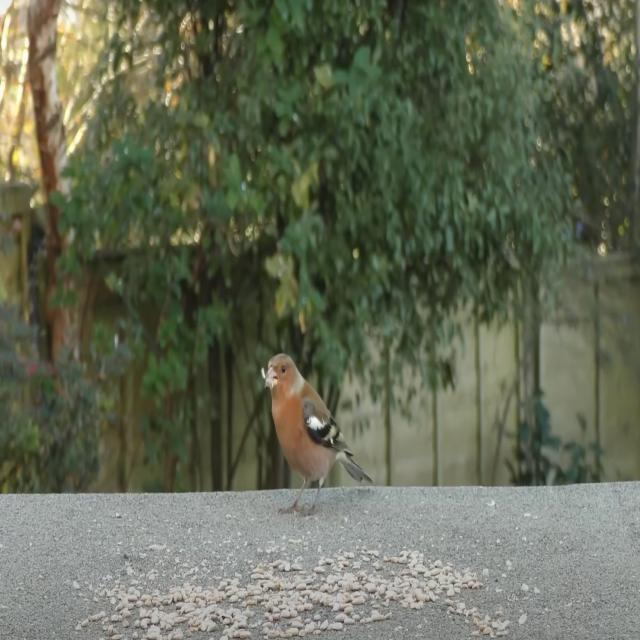beak: (262, 366, 277, 389)
bird: (261, 352, 372, 520)
